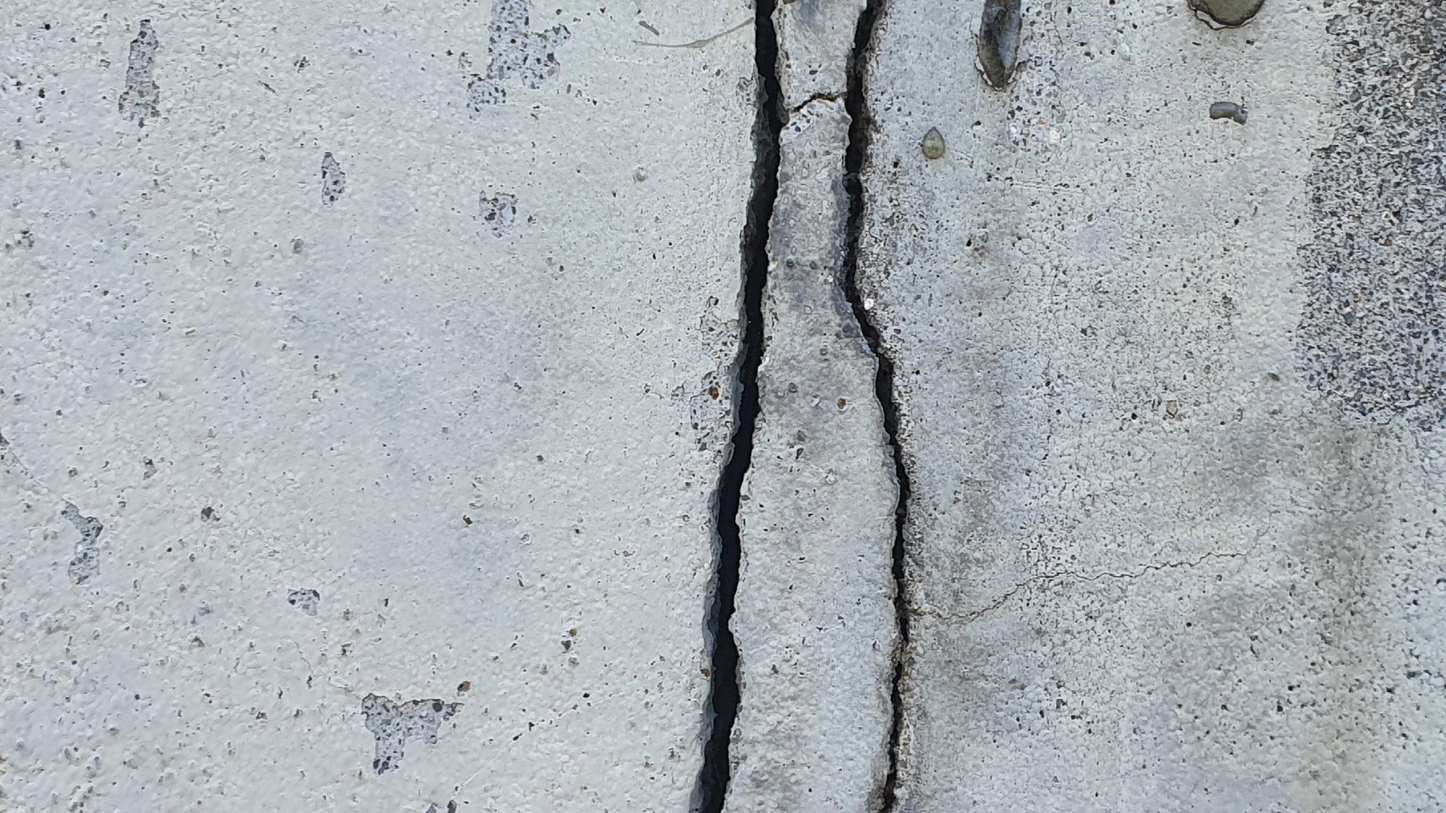crack: (789, 0, 1245, 812), (695, 0, 795, 811)
